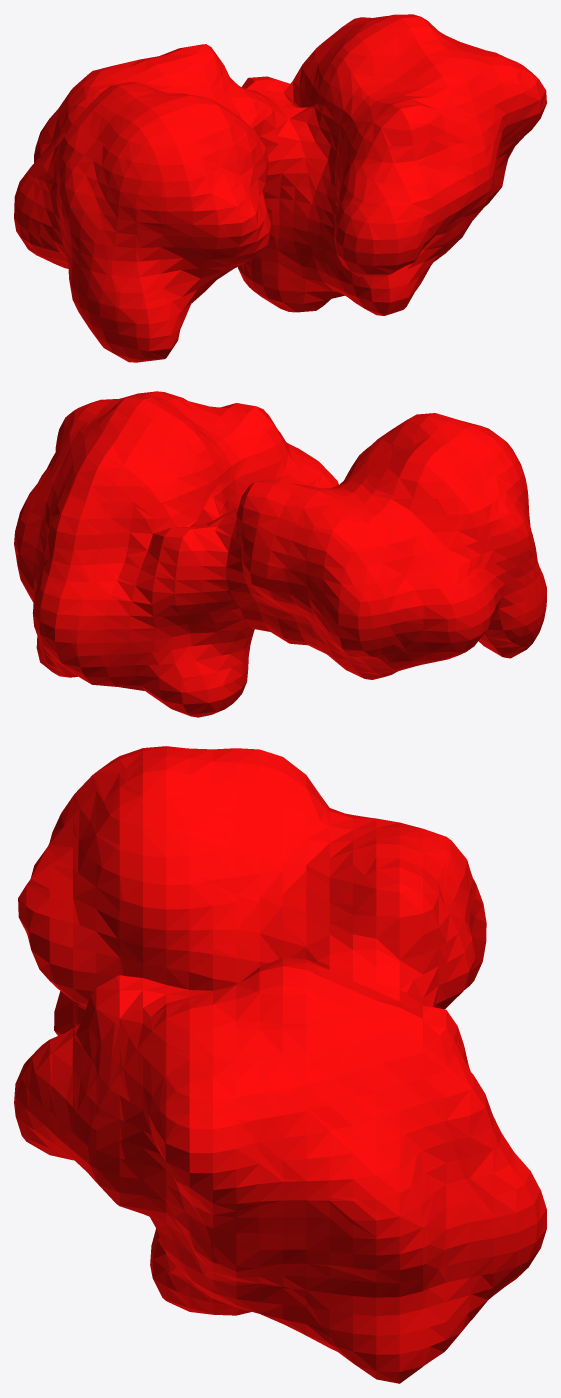
File: ycgR_coarse.dae
The picture shows the model from 3 angles, top to bottom: view 1: azimuth 30°, elevation 25°; view 2: azimuth 150°, elevation 25°; view 3: azimuth 270°, elevation 25°; orthographic projection. The views are drawn at different scales.
Parts seen in each view (by area): view 1: ycgR; view 2: ycgR; view 3: ycgR.
Part boxes in pixels (bbox=[...]): ycgR: bbox=[14, 14, 546, 362]; ycgR: bbox=[14, 391, 546, 717]; ycgR: bbox=[14, 746, 546, 1383].
Size of the model in its own units: 71.02 by 42.15 by 47.66.
